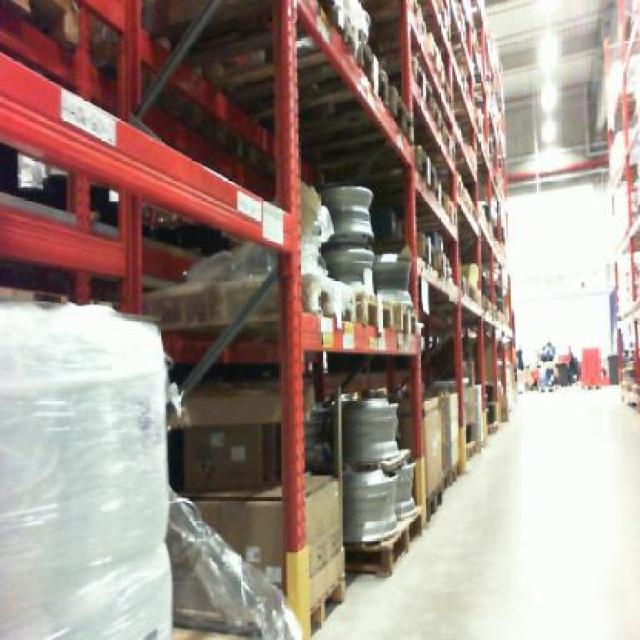pallet: (349, 497, 427, 582), (294, 266, 362, 326), (303, 570, 350, 638), (351, 289, 396, 335), (391, 299, 418, 340)
